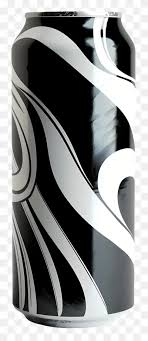can: (10, 10, 135, 328)
